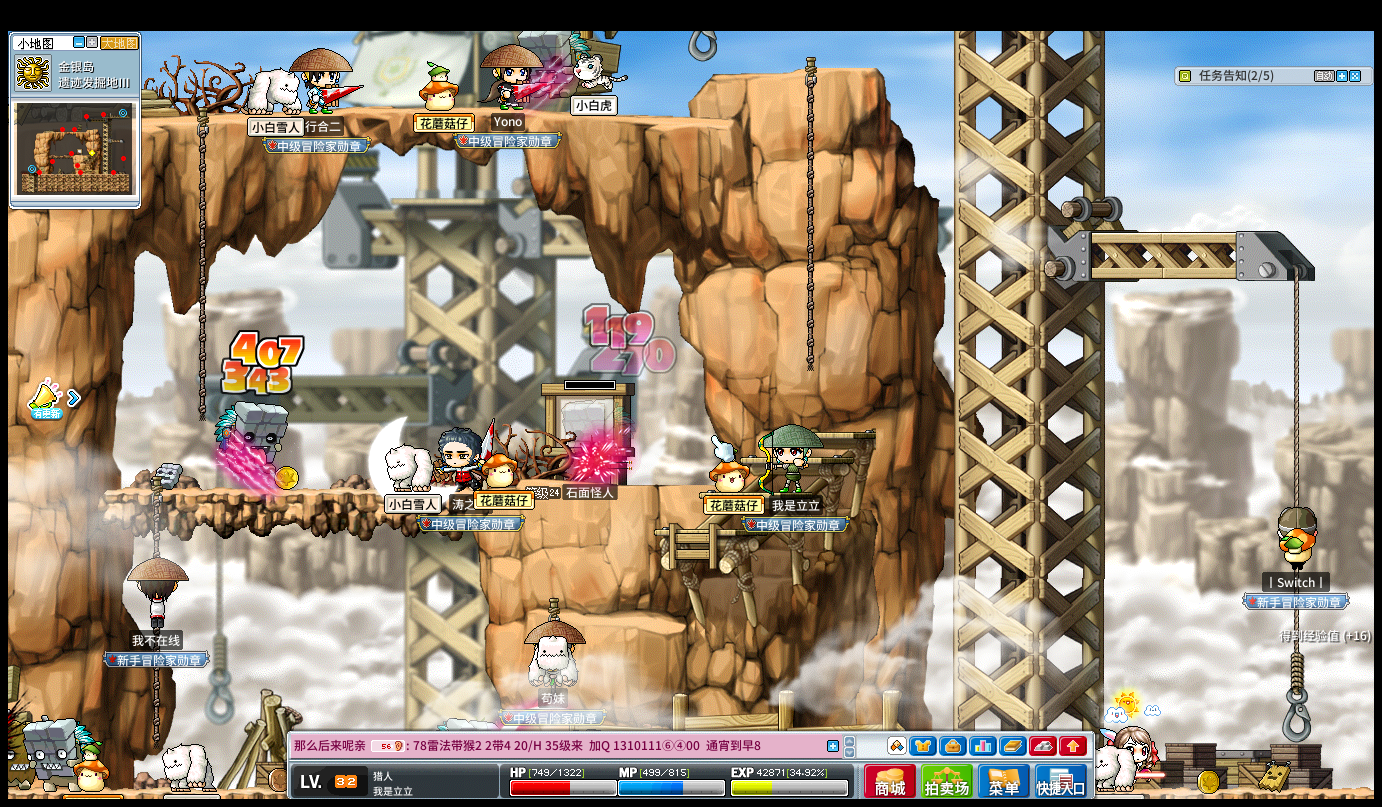floor: (104, 104, 739, 130), (99, 486, 484, 498), (1094, 228, 1289, 243), (706, 61, 882, 76), (578, 611, 686, 634), (710, 64, 883, 78), (709, 67, 889, 80), (687, 492, 835, 500), (613, 481, 720, 491), (653, 529, 761, 538), (787, 452, 850, 464), (784, 450, 858, 459), (810, 429, 876, 439)
monster: (215, 401, 288, 486), (563, 401, 635, 479), (22, 718, 78, 790)
rope: (804, 54, 817, 375), (196, 105, 207, 430), (1289, 272, 1303, 505), (147, 476, 161, 557), (1289, 443, 1302, 507), (1290, 631, 1302, 698), (151, 667, 161, 745)
